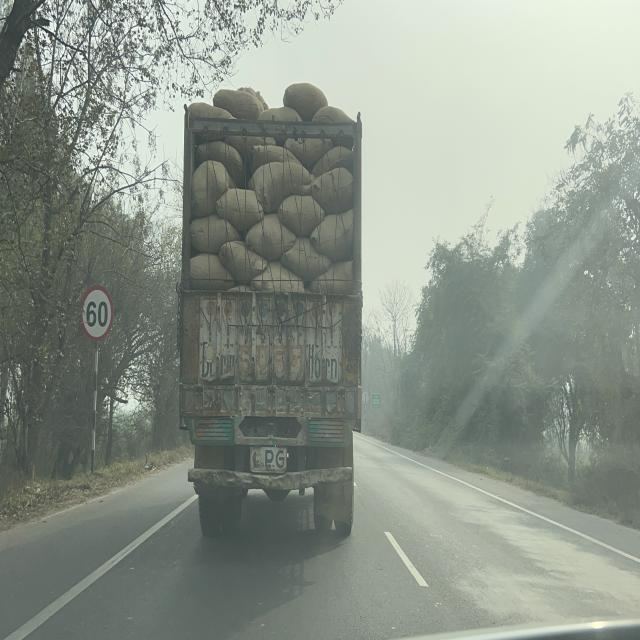SPEED_LIMIT_60: (80, 285, 114, 342)
